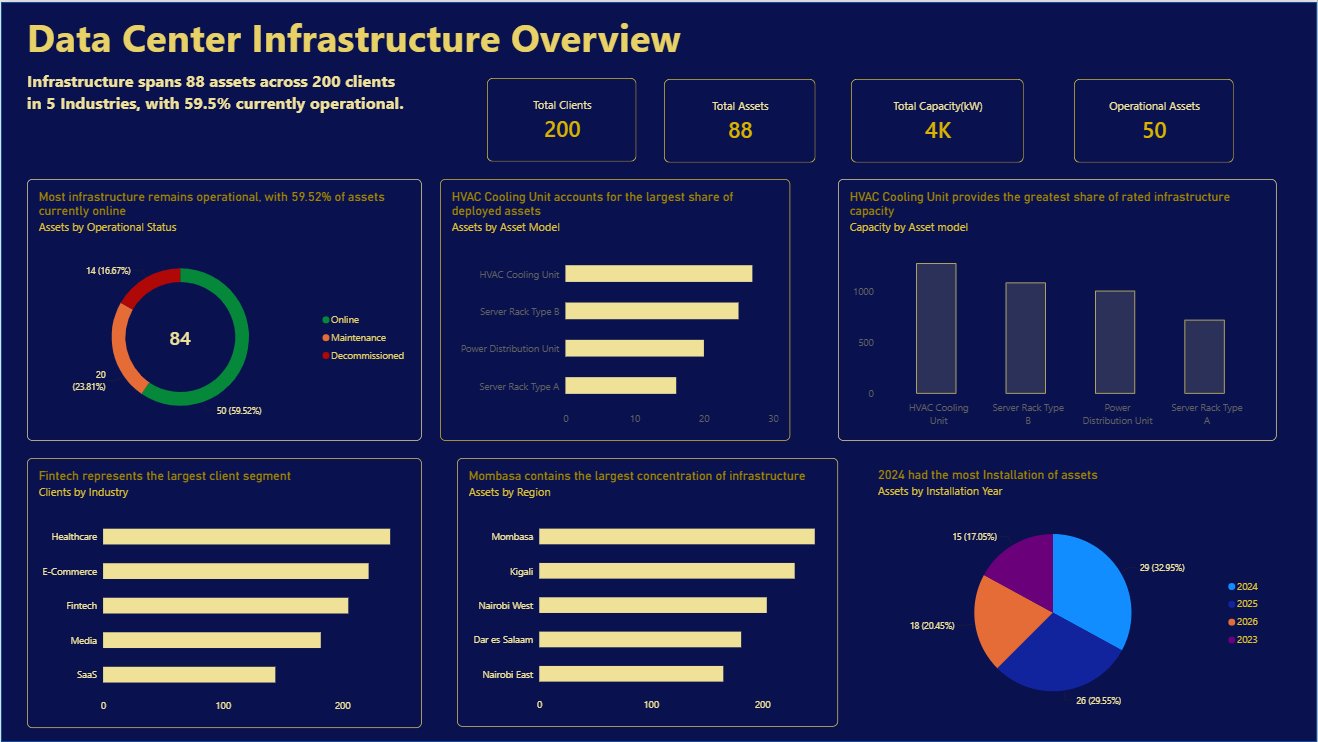

Layout of this report page (visuals, bound fields, positions):
{"tool":"powerbi","page":{"name":"Overview","canvas":[1920,1080],"ordinal":0},"visuals":[{"type":"shape","box":[0,0,1920,1079.6],"z":0},{"type":"textbox","box":[38.2,12.7,1065.1,84.4],"z":1000},{"type":"clusteredBarChart","title":"HVAC Cooling Unit accounts for the largest share of deployed assets","fields":{"Category":["dim_asset.Asset_Model"],"Y":["CountNonNull(dim_asset.Asset_ID)"]},"box":[640,257.9,511,382.1],"z":2000},{"type":"barChart","title":"Fintech represents the largest client segment","fields":{"Category":["dim_client.Industry"],"Y":["CountNonNull(fact_infrastructure_telemetry.Client_ID)"]},"box":[37.9,665.3,576.3,393.9],"z":3000},{"type":"clusteredBarChart","title":"Mombasa contains the largest concentration of infrastructure","fields":{"Category":["dim_client.HQ_Region"],"Y":["CountNonNull(fact_infrastructure_telemetry.Asset_ID)"]},"box":[665.3,665.3,555.9,392.5],"z":4000},{"type":"donutChart","title":"Most infrastructure remains operational, with 59.52% of assets currently online","fields":{"Category":["dim_asset.Operational_Status"],"Y":["CountNonNull(dim_asset.Asset_ID)"]},"box":[37.9,258.2,576.3,382.2],"z":5000},{"type":"clusteredColumnChart","title":"HVAC Cooling Unit provides the greatest share of rated infrastructure capacity","fields":{"Category":["dim_asset.Asset_Model"],"Y":["Sum(dim_asset.Capacity_kW)"]},"box":[1221.1,257.9,640,382.1],"z":6000},{"type":"pieChart","title":"2024 had the most Installation of assets","fields":{"Category":["dim_asset.Installation Year"],"Y":["CountNonNull(dim_asset.Asset_ID)"]},"box":[1264.1,665.5,595.4,393.2],"z":7000},{"type":"cardVisual","title":"Clients by Tier","fields":{"Data":["Measures Table.Total Clients"]},"box":[708.5,111.4,218.8,122.6],"z":8000},{"type":"cardVisual","title":"Clients by Tier","fields":{"Data":["Measures Table.Total Assets"]},"box":[968,113,221.8,122.6],"z":9000},{"type":"cardVisual","title":"Clients by Tier","fields":{"Data":["Measures Table.Total Energy Consumed"]},"box":[1240.2,113,252.4,122.6],"z":10000},{"type":"cardVisual","title":"Clients by Tier","fields":{"Data":["Measures Table.Operational Assets"]},"box":[1565,113,233.4,122.6],"z":11000},{"type":"textbox","box":[38.2,97.1,563.6,76.4],"z":12000}]}

Visuals, with their boxes in screenshot pixels (x1, y1, x2, y2), scaled from the page's 1920x1080 canvas onto the 1318x742 screenshot:
shape: 0 0 1317 741
textbox: 26 9 757 67
"HVAC Cooling Unit accounts for the largest share of deployed assets" clusteredBarChart: 439 177 790 440
"Fintech represents the largest client segment" barChart: 26 457 422 728
"Mombasa contains the largest concentration of infrastructure" clusteredBarChart: 457 457 838 727
"Most infrastructure remains operational, with 59.52% of assets currently online" donutChart: 26 177 422 440
"HVAC Cooling Unit provides the greatest share of rated infrastructure capacity" clusteredColumnChart: 838 177 1278 440
"2024 had the most Installation of assets" pieChart: 868 457 1276 727
"Clients by Tier" cardVisual: 486 77 637 161
"Clients by Tier" cardVisual: 664 78 817 162
"Clients by Tier" cardVisual: 851 78 1025 162
"Clients by Tier" cardVisual: 1074 78 1235 162
textbox: 26 67 413 119
